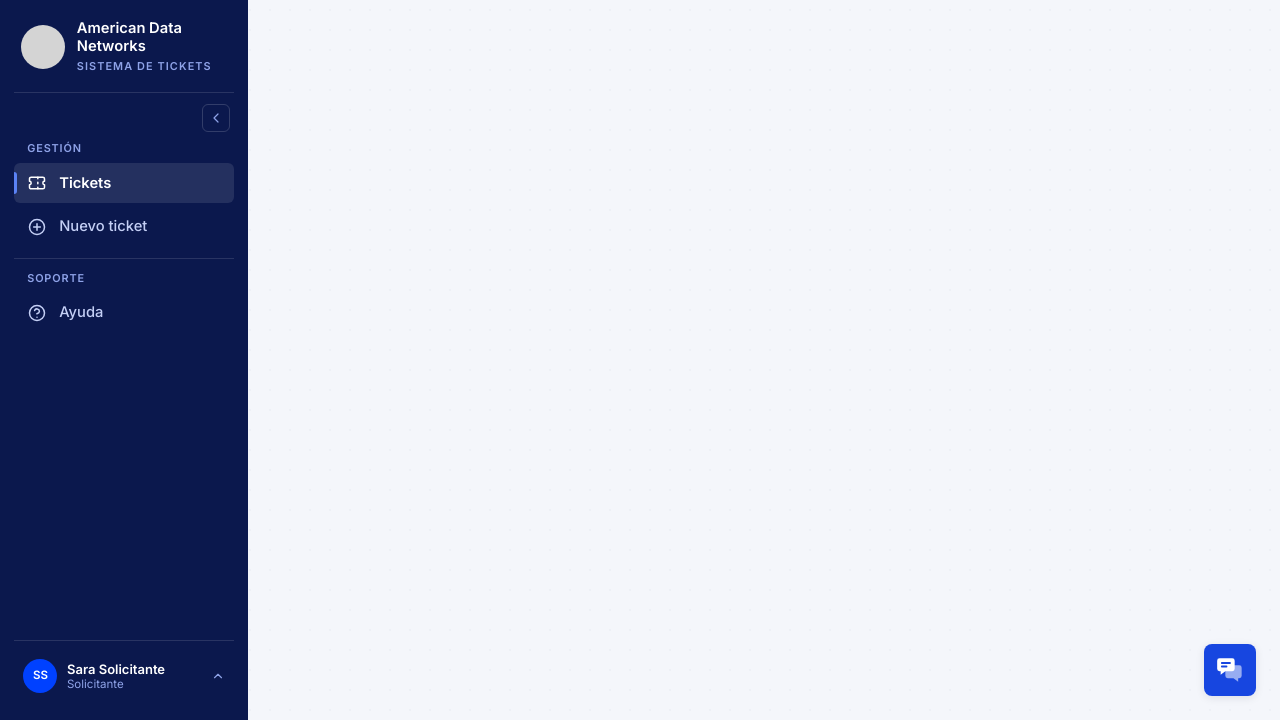
Test: Asistente virtual › saludo con sugerencias según el rol
Click the button named "Abrir asistente virtual": [1230, 670] box x1=1204 y1=644 x2=1256 y2=696
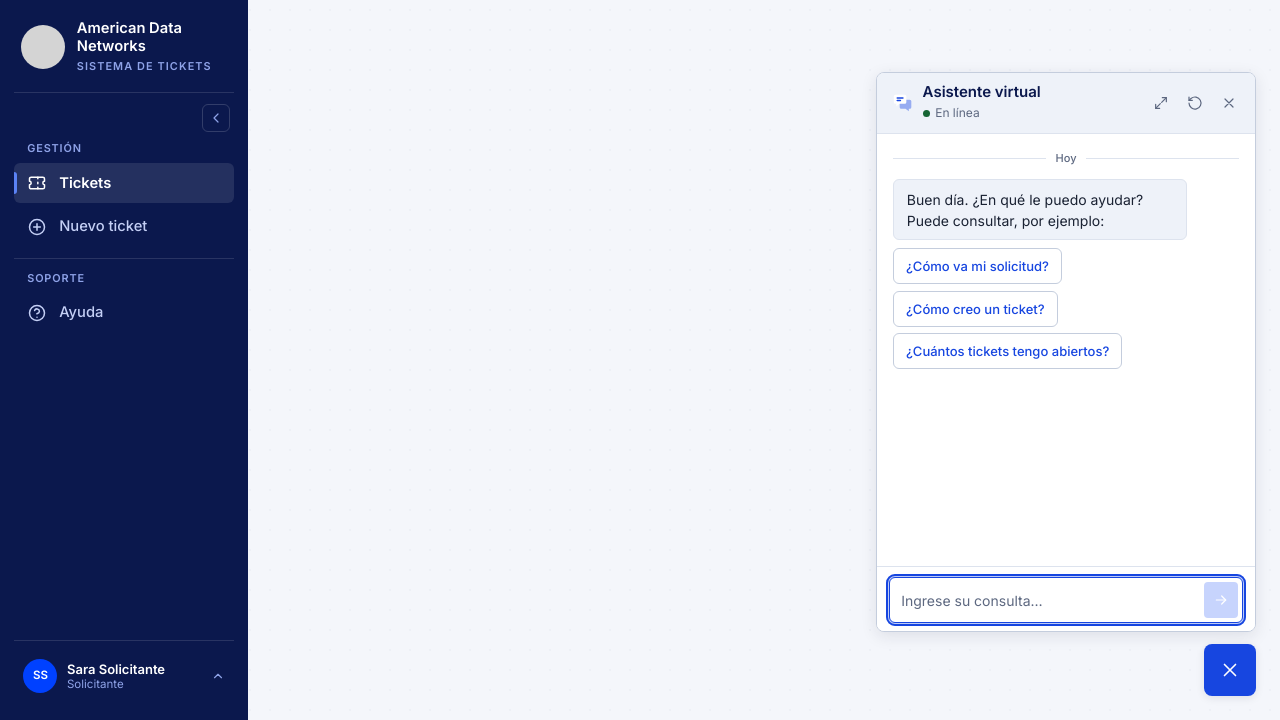
Now the text "Buen día. ¿En qué le puedo ayudar? Puede consultar, por ejemplo:" is shown, box x1=907 y1=189 x2=1173 y2=231
Now the buttons "?" read "¿Cómo va mi solicitud?", "¿Cómo creo un ticket?", "¿Cuántos tickets tengo abiertos?", in this order, box x1=893 y1=248 x2=1062 y2=284; x1=893 y1=291 x2=1058 y2=327; x1=893 y1=333 x2=1122 y2=369
Now the text "Hoy" is shown, box x1=1056 y1=150 x2=1076 y2=167
